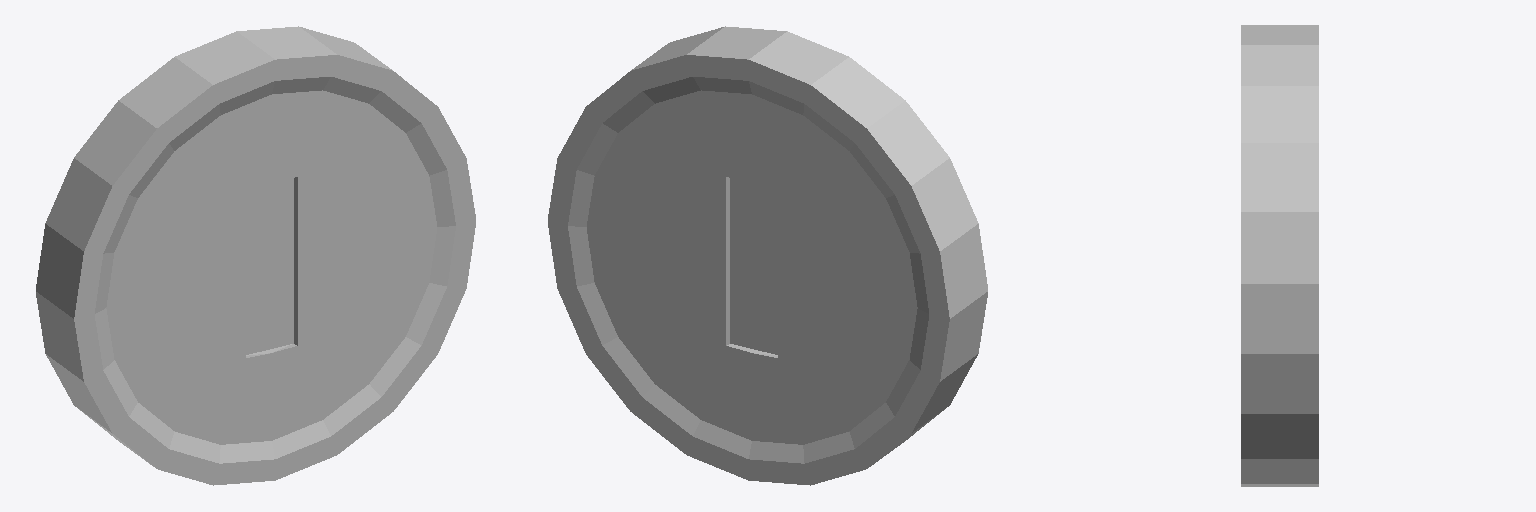
File: coin.obj
3 views of the same model, side by side, from view 1: azimuth 30°, elevation 25°; view 2: azimuth 150°, elevation 25°; view 3: azimuth 270°, elevation 25° (orthographic).
Parts seen in each view (by area): view 1: pCylinder3.001; view 2: pCylinder3.001; view 3: pCylinder3.001.
Part boxes in pixels (left/top/right/bottom): pCylinder3.001: left=36, top=26, right=475, bottom=485; pCylinder3.001: left=548, top=26, right=987, bottom=485; pCylinder3.001: left=1241, top=25, right=1318, bottom=486.
Bounding box in the file's own units: 2 × 2 × 0.333.